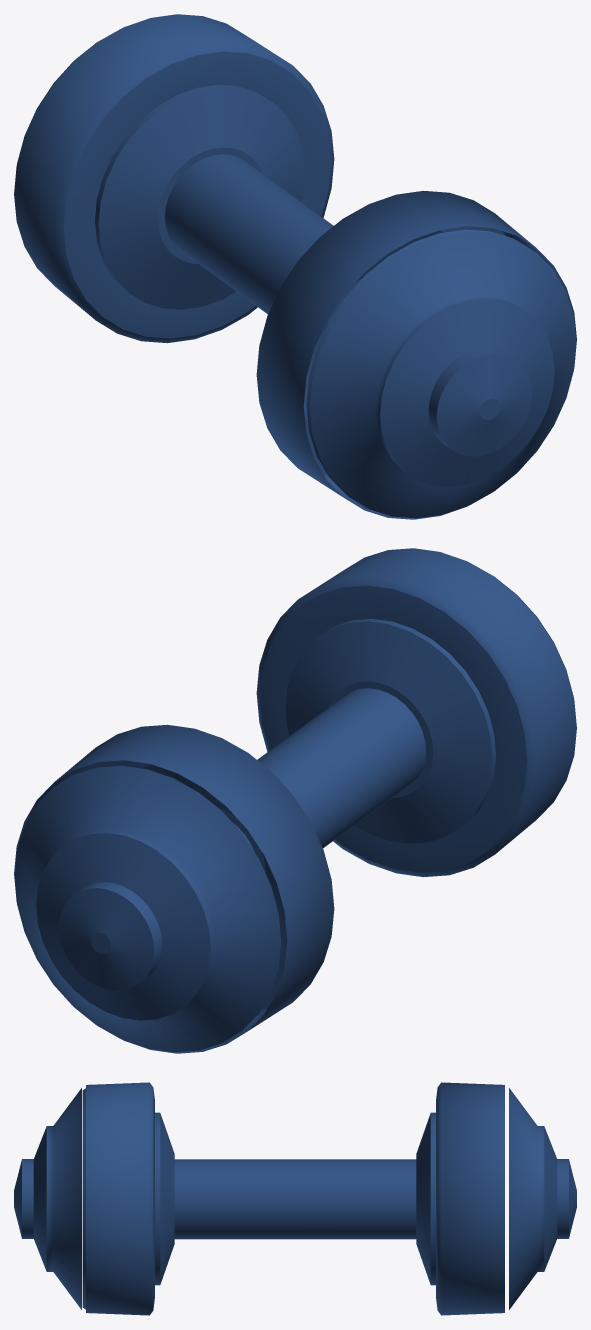
The model's file is гантеля.fbx.
3 views of the same model, one above another, from view 1: azimuth 30°, elevation 25°; view 2: azimuth 150°, elevation 25°; view 3: azimuth 270°, elevation 25° (orthographic). The views are drawn at different scales.
Parts seen in each view (by area): view 1: Цилиндр.177, Цилиндр.179, Цилиндр.181; view 2: Цилиндр.177, Цилиндр.179; view 3: Цилиндр.177, Цилиндр.179, Цилиндр.181.
Part boxes in pixels (left/top/right/bottom): Цилиндр.177: left=14, top=14, right=576, bottom=519; Цилиндр.179: left=165, top=154, right=333, bottom=314; Цилиндр.181: left=306, top=229, right=529, bottom=494; Цилиндр.177: left=14, top=548, right=576, bottom=1053; Цилиндр.179: left=233, top=688, right=425, bottom=851; Цилиндр.177: left=14, top=1082, right=576, bottom=1315; Цилиндр.179: left=174, top=1159, right=416, bottom=1239; Цилиндр.181: left=82, top=1088, right=85, bottom=1309.
Size of the model in its own units: 82.94 by 82.94 by 200.
